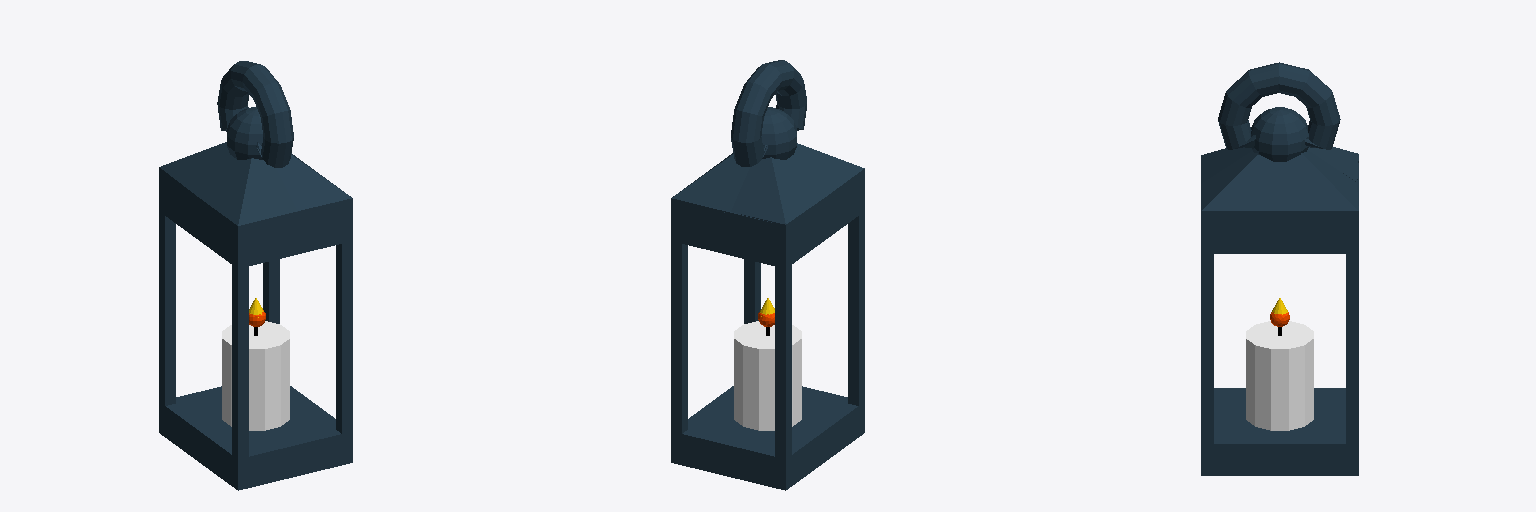
File: one_mesh.obj
3 renders of one model, left to right at view 1: azimuth 30°, elevation 25°; view 2: azimuth 150°, elevation 25°; view 3: azimuth 270°, elevation 25°, orthographic.
Visible parts, largest first — view 1: group[number redacted]; view 2: group[number redacted]; view 3: group[number redacted].
Boxes of the visible parts, box(x1,y1,x2,y2) form: group[number redacted]: box(159, 61, 352, 490); group[number redacted]: box(671, 60, 864, 490); group[number redacted]: box(1201, 62, 1358, 475).
Bounding box in the file's own units: 0.84 × 2.68 × 1.